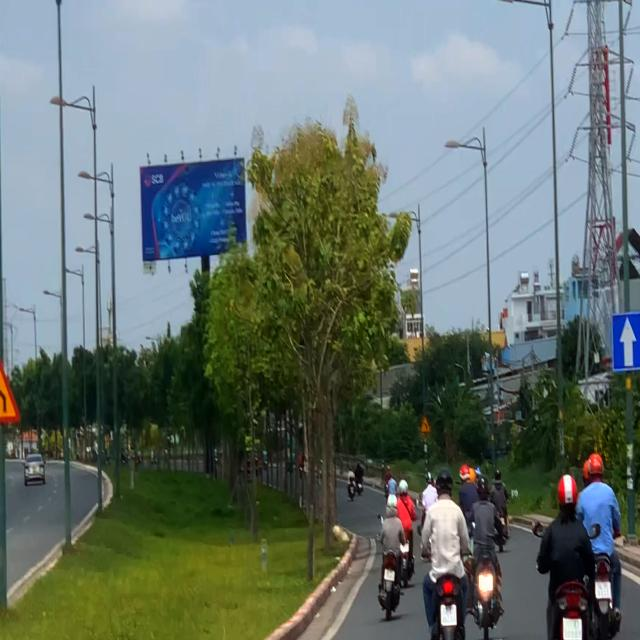Chi dan: (611, 309, 640, 374)
Nguy hiem: (0, 356, 21, 426), (419, 415, 430, 433)
